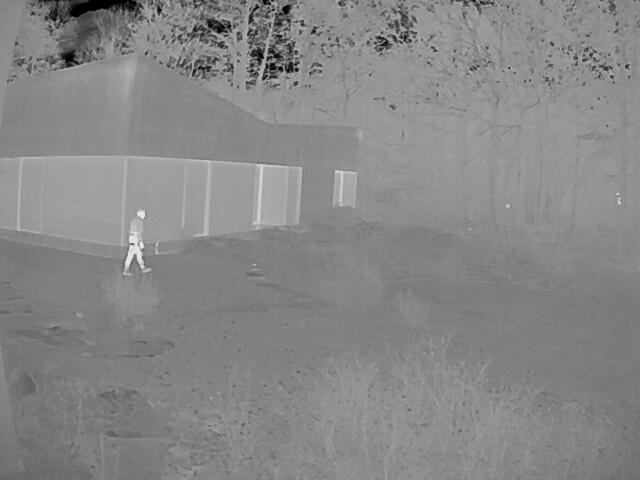person: (120, 204, 150, 276)
